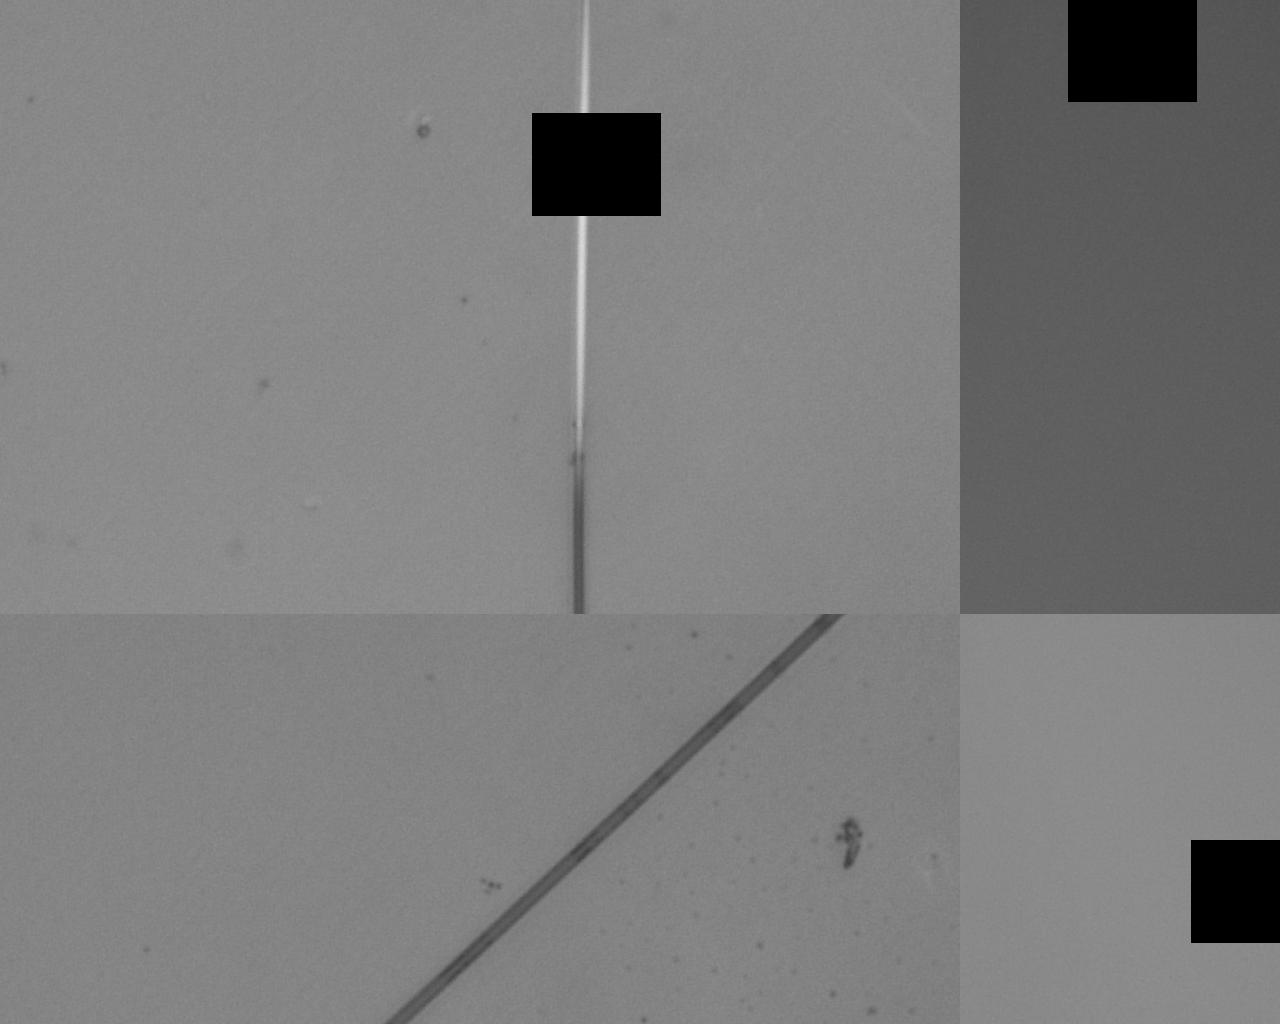fiber: (380, 614, 841, 1024), (576, 0, 595, 614)
